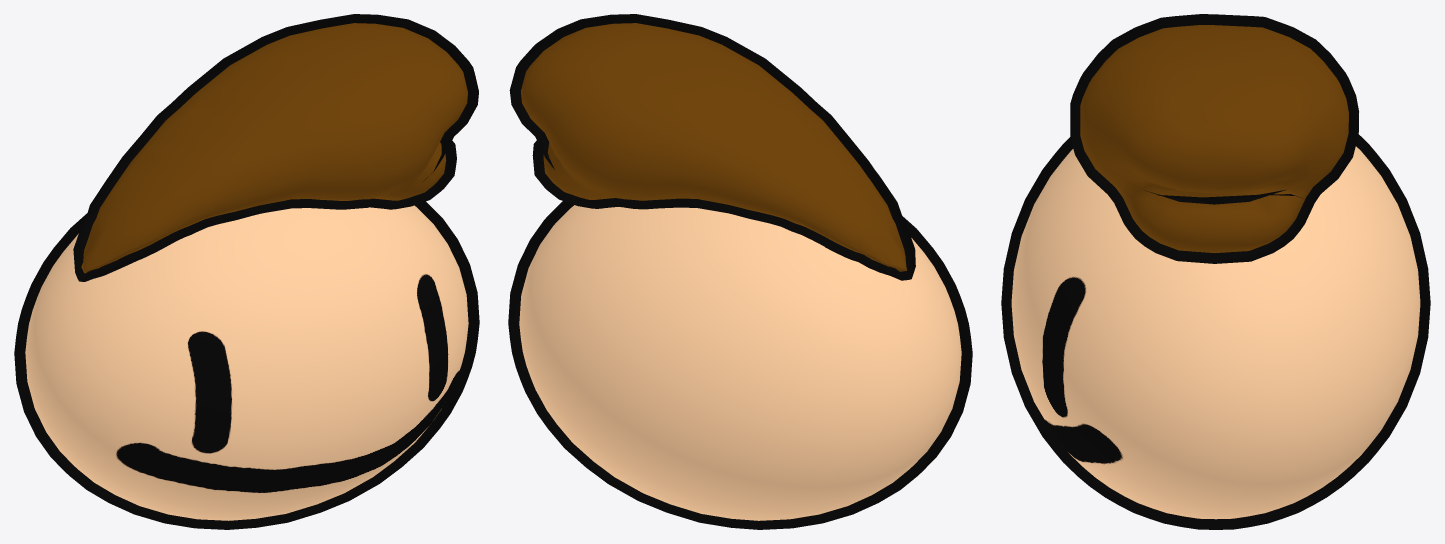
Rendered from dummi.glb.
The picture shows the model from 3 angles, left to right: view 1: azimuth 30°, elevation 25°; view 2: azimuth 150°, elevation 25°; view 3: azimuth 270°, elevation 25°; orthographic projection. The views are drawn at different scales.
Parts seen in each view (by area): view 1: dummi; view 2: dummi; view 3: dummi.
Boxes of the visible parts, x1,y1,x2,y2 form: dummi: (14,14,479,529); dummi: (508,14,972,529); dummi: (1001,14,1430,529).
Size of the model in its own units: 1.12 by 1.12 by 0.8617.
3 materials, 1 textured.
